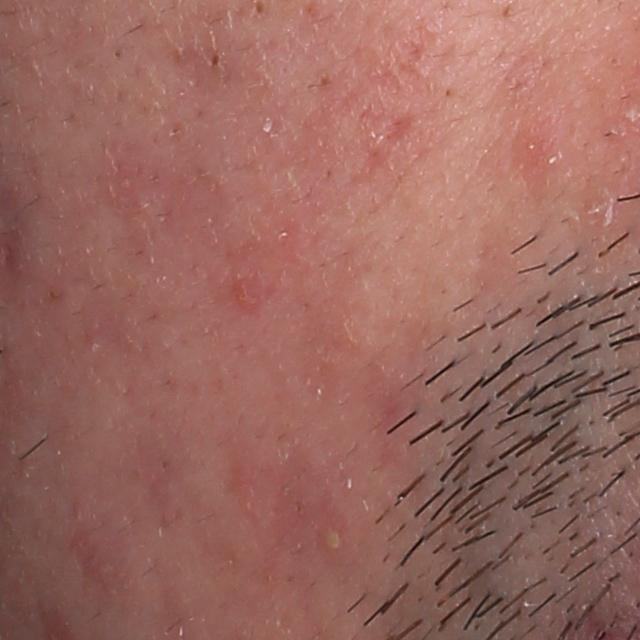atrophic_scar: (375, 111, 420, 164)
comedo: (207, 50, 225, 73)
pustule: (320, 522, 351, 557)
